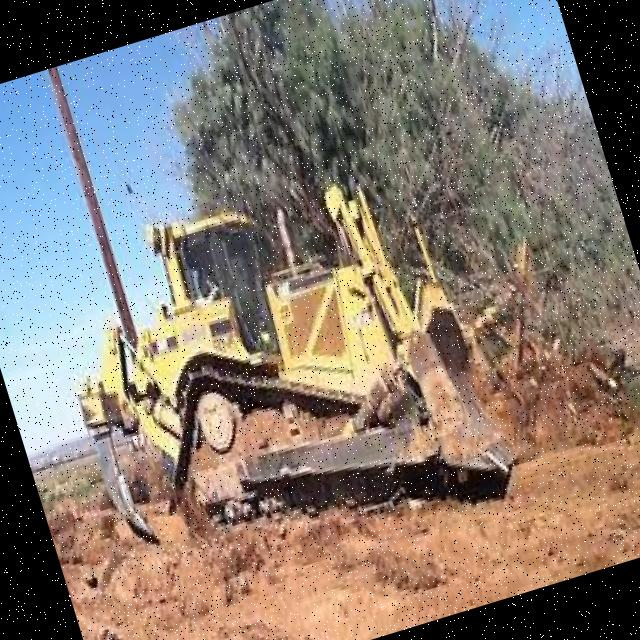Bulldozer: (0, 98, 541, 625)
